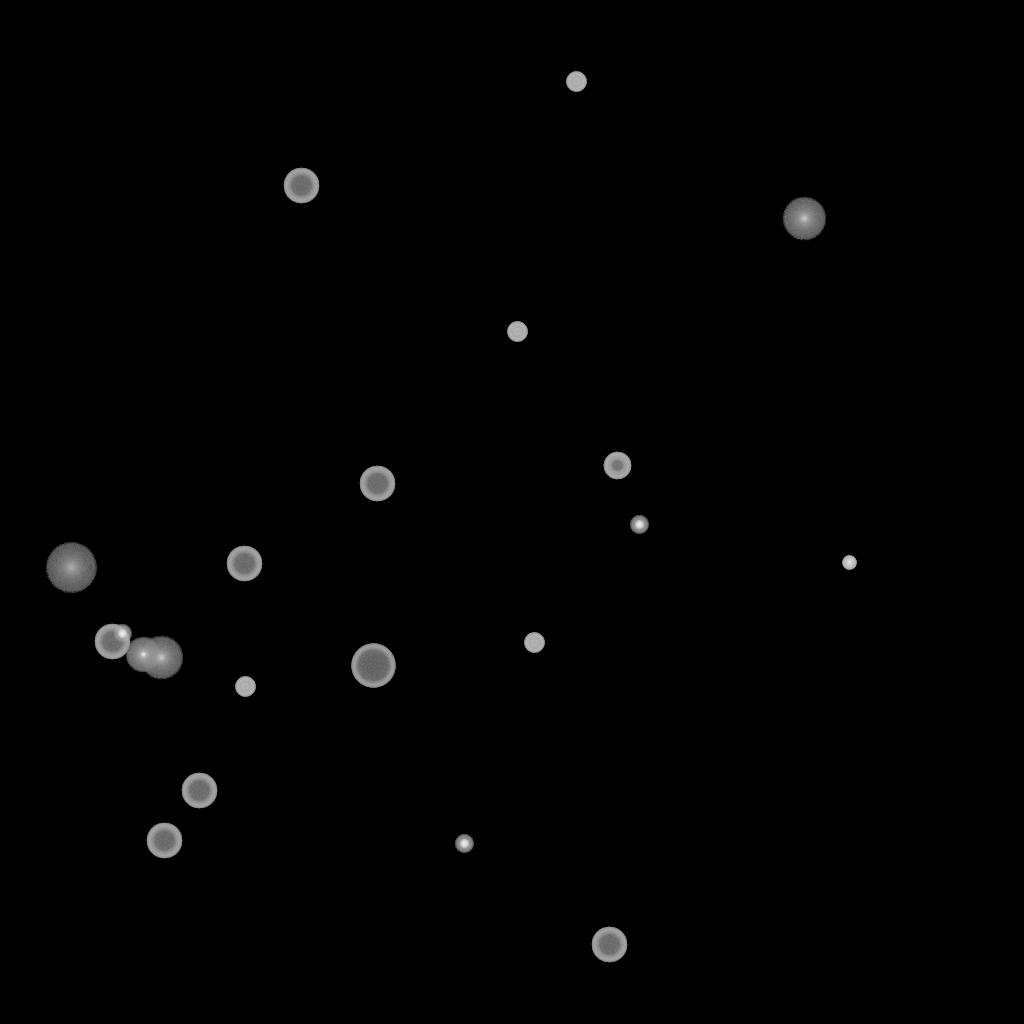depth:-20: (630, 516, 648, 534), (455, 835, 473, 853), (113, 625, 131, 643)
depth:-30: (842, 556, 856, 570)
depth:-40: (235, 677, 255, 697), (566, 72, 586, 92), (524, 633, 544, 653), (507, 322, 527, 342)
depth:-50: (603, 452, 631, 480)
depth:-60: (94, 624, 130, 660), (226, 546, 262, 582), (591, 927, 627, 963), (359, 466, 395, 502), (146, 823, 182, 859), (283, 168, 319, 204), (181, 773, 217, 809)
depth:-70: (351, 644, 395, 688)
depth:0: (125, 637, 161, 673)
depth:10: (139, 636, 183, 680), (782, 197, 826, 241)
depth:20: (45, 543, 97, 593)
